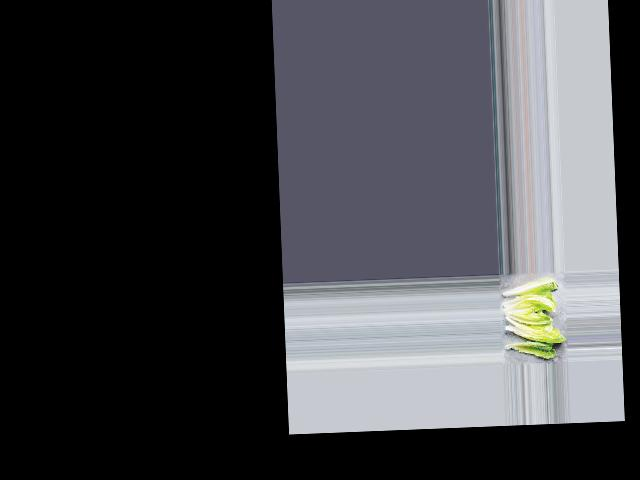lettuce: (502, 339, 556, 358)
